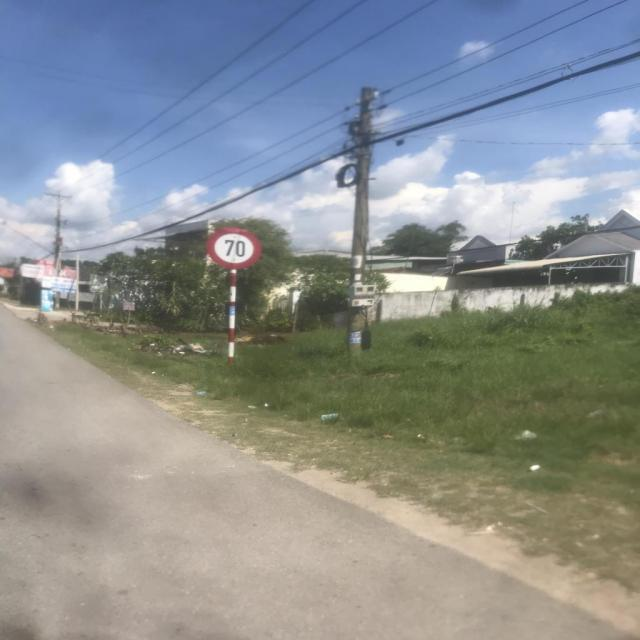khac: (205, 226, 263, 269)
